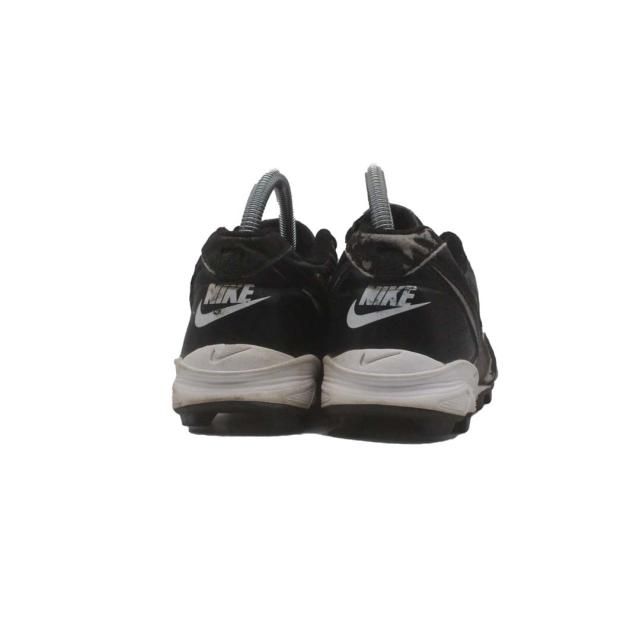heel: (182, 229, 324, 371), (325, 235, 468, 376)
midsole: (319, 357, 483, 429), (172, 359, 324, 432)
